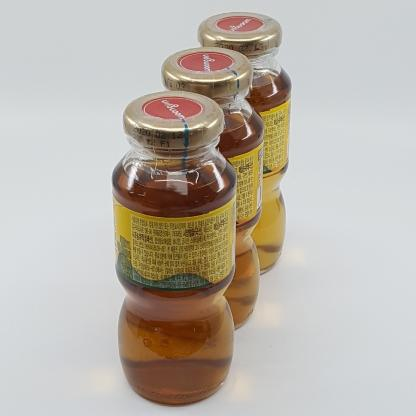-------180ML: (112, 91, 237, 404)
